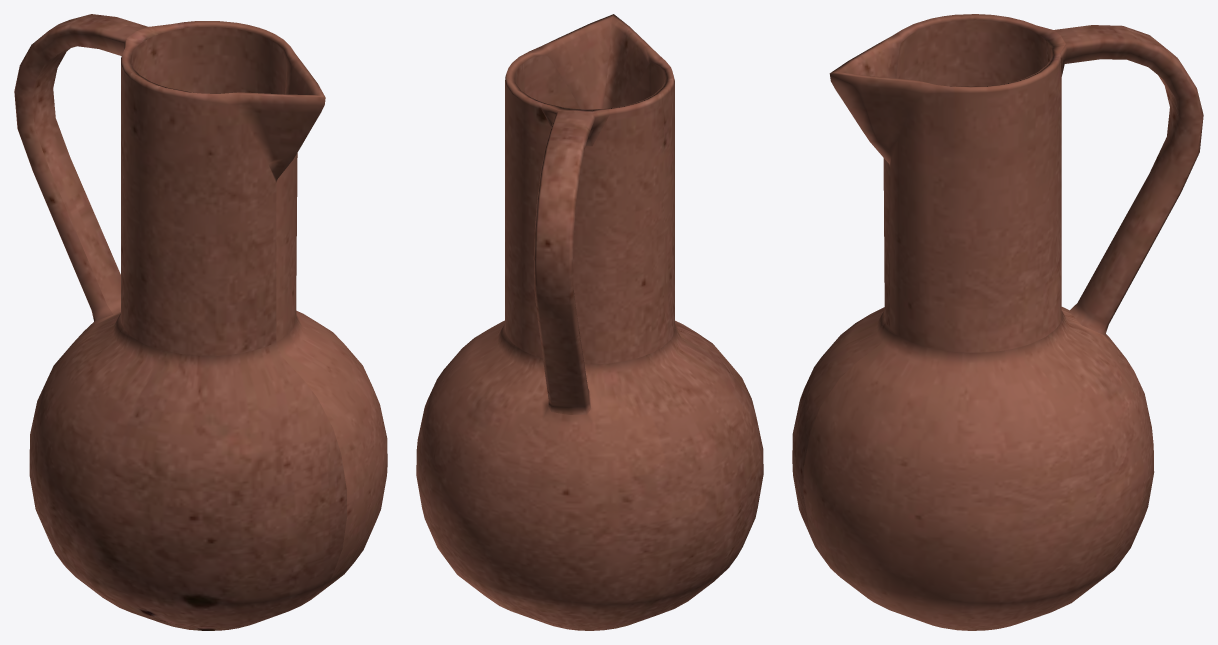
The model's file is Vase_11.glb.
3 renders of one model, left to right at view 1: azimuth 30°, elevation 25°; view 2: azimuth 150°, elevation 25°; view 3: azimuth 270°, elevation 25°, orthographic. The views are drawn at different scales.
Visible parts, largest first — view 1: SM_Vase_11; view 2: SM_Vase_11; view 3: SM_Vase_11.
Part boxes in pixels (left/top/right/bottom): SM_Vase_11: left=14, top=14, right=387, bottom=630; SM_Vase_11: left=416, top=14, right=763, bottom=630; SM_Vase_11: left=792, top=14, right=1203, bottom=630.
Bounding box in the file's own units: 0.1186 × 0.1993 × 0.1344.
1 material, 1 textured.
